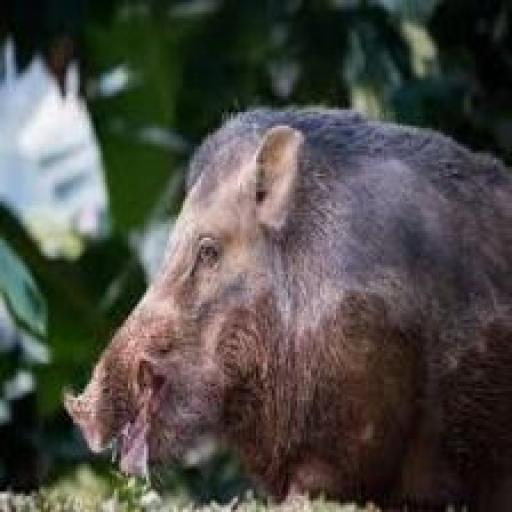Pig: (55, 89, 512, 509)
